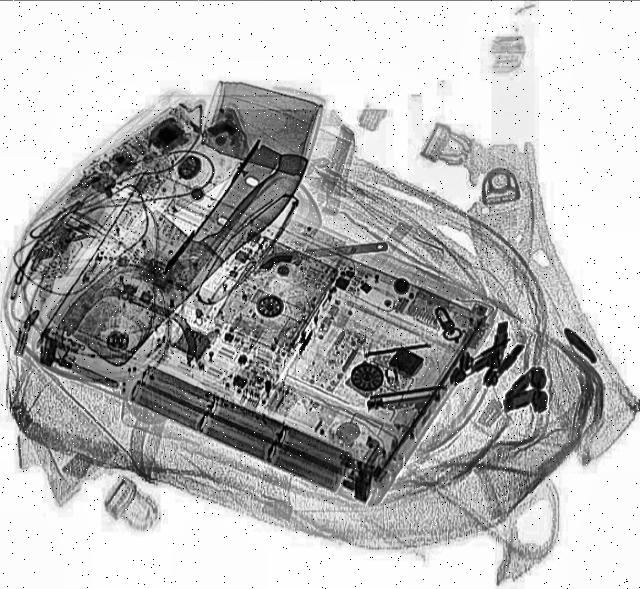Knife: (43, 114, 321, 374)
